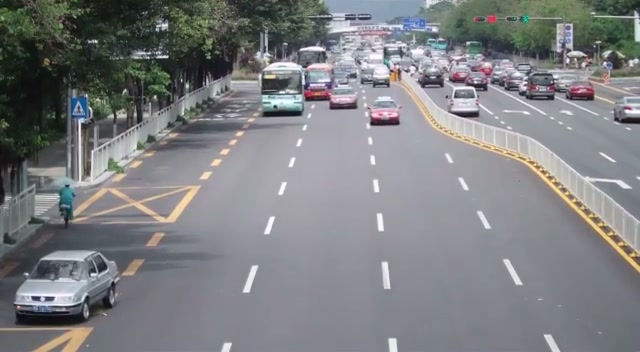bus: (260, 61, 305, 116), (305, 62, 335, 100), (297, 46, 328, 68)
car: (13, 250, 121, 323), (446, 86, 480, 117), (367, 96, 402, 125), (523, 73, 556, 101), (613, 96, 640, 123), (328, 86, 358, 109), (419, 67, 444, 88), (566, 82, 595, 100), (465, 72, 488, 91), (503, 71, 526, 90), (450, 64, 471, 83)
pedestrian: (58, 183, 76, 225)
